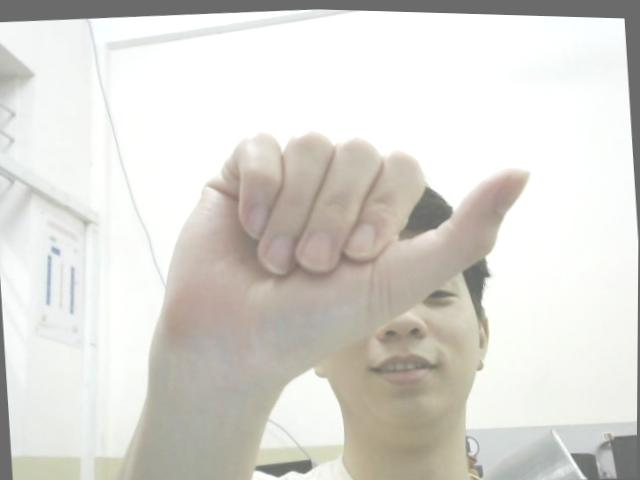A: (145, 105, 546, 383)
